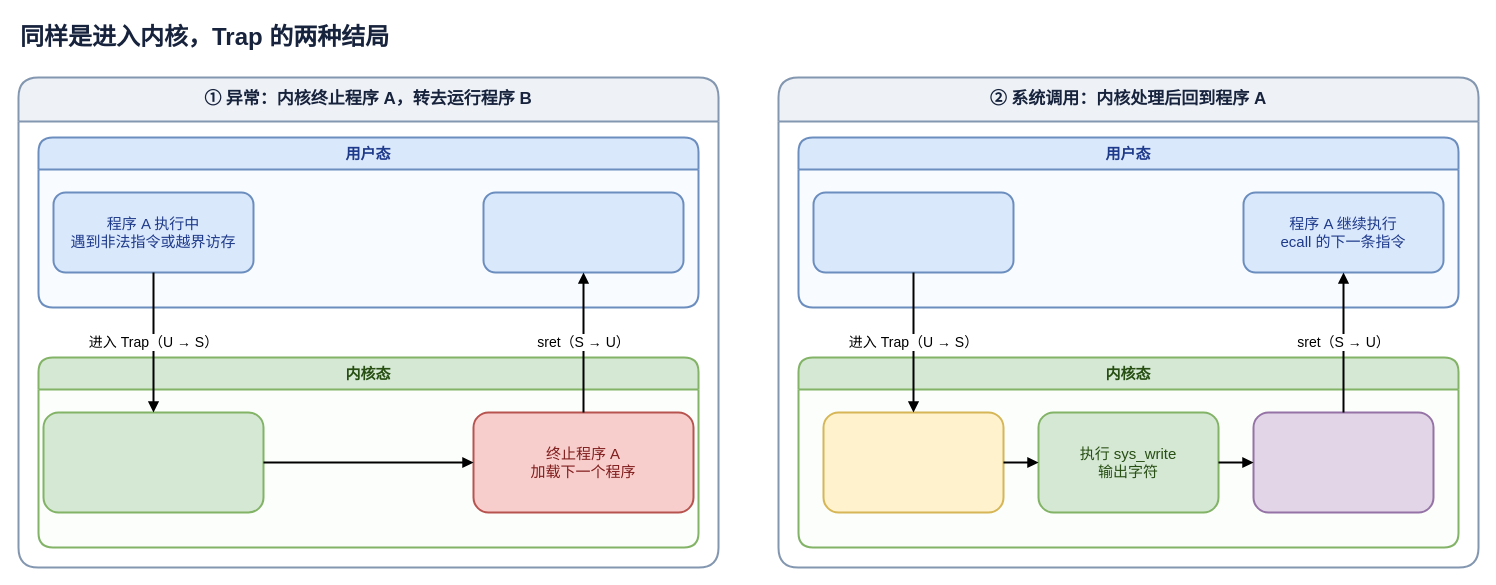
Some shapes in this 1496 by 585 pixel diagram are drawn without their labels. Each missing label, with the box of its shape:
sepc += 4 恢复 TrapContext: (1252, 411, 1434, 513)
trap_handler 读 scause，判定为致命异常: (42, 411, 264, 513)
保存 TrapContext 到内核栈: (822, 411, 1004, 513)
程序 A 执行中 执行 ecall 发起系统调用: (812, 191, 1014, 273)
程序 B 从入口开始执行: (482, 191, 684, 273)
